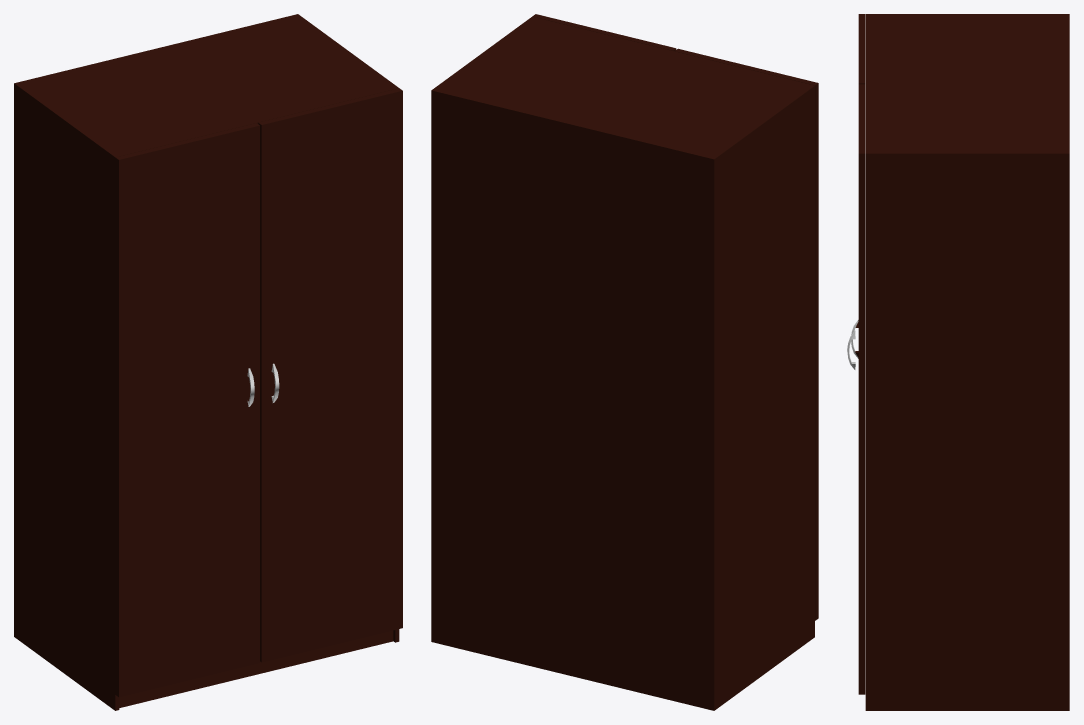
Rendered from animated-wardobe-closet-office-low-poly_new.fbx.
The picture shows the model from 3 angles, left to right: view 1: azimuth 30°, elevation 25°; view 2: azimuth 150°, elevation 25°; view 3: azimuth 270°, elevation 25°; orthographic projection.
Visible parts, largest first — view 1: closet, L_door, R_door; view 2: closet, L_door; view 3: closet, R_door, L_door.
Part boxes in pixels (<box>): closet: <box>14,14,399,710</box>; L_door: <box>115,123,259,697</box>; R_door: <box>258,88,402,662</box>; closet: <box>431,16,814,710</box>; L_door: <box>675,48,818,620</box>; closet: <box>865,14,1069,710</box>; R_door: <box>858,84,865,694</box>; L_door: <box>858,14,865,84</box>.
Bounding box in the file's own units: 2.54 × 4.73 × 1.71.
